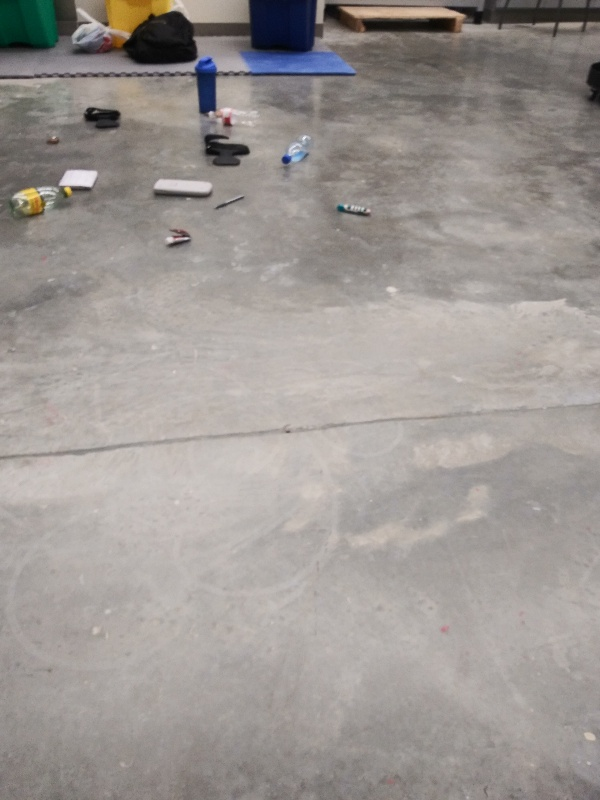bottle: (4, 183, 75, 222), (278, 129, 318, 171), (206, 102, 267, 128)
